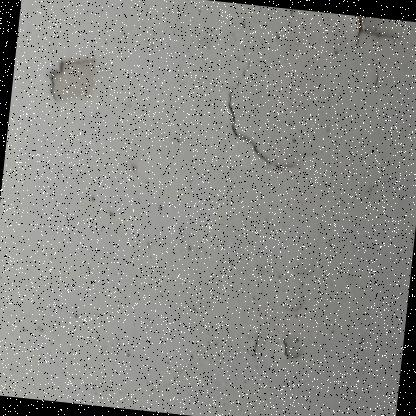Crack: (199, 0, 415, 199), (205, 305, 405, 415), (28, 22, 122, 122)
